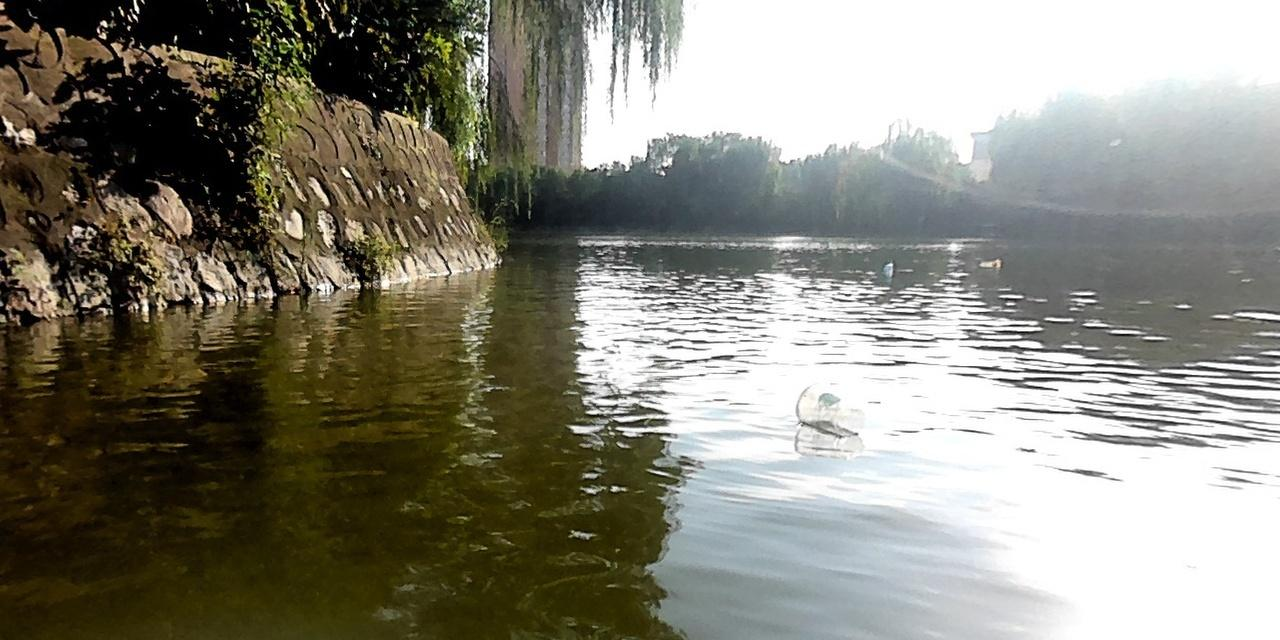bottle: (793, 382, 860, 440), (976, 256, 1002, 269), (880, 260, 894, 274)
